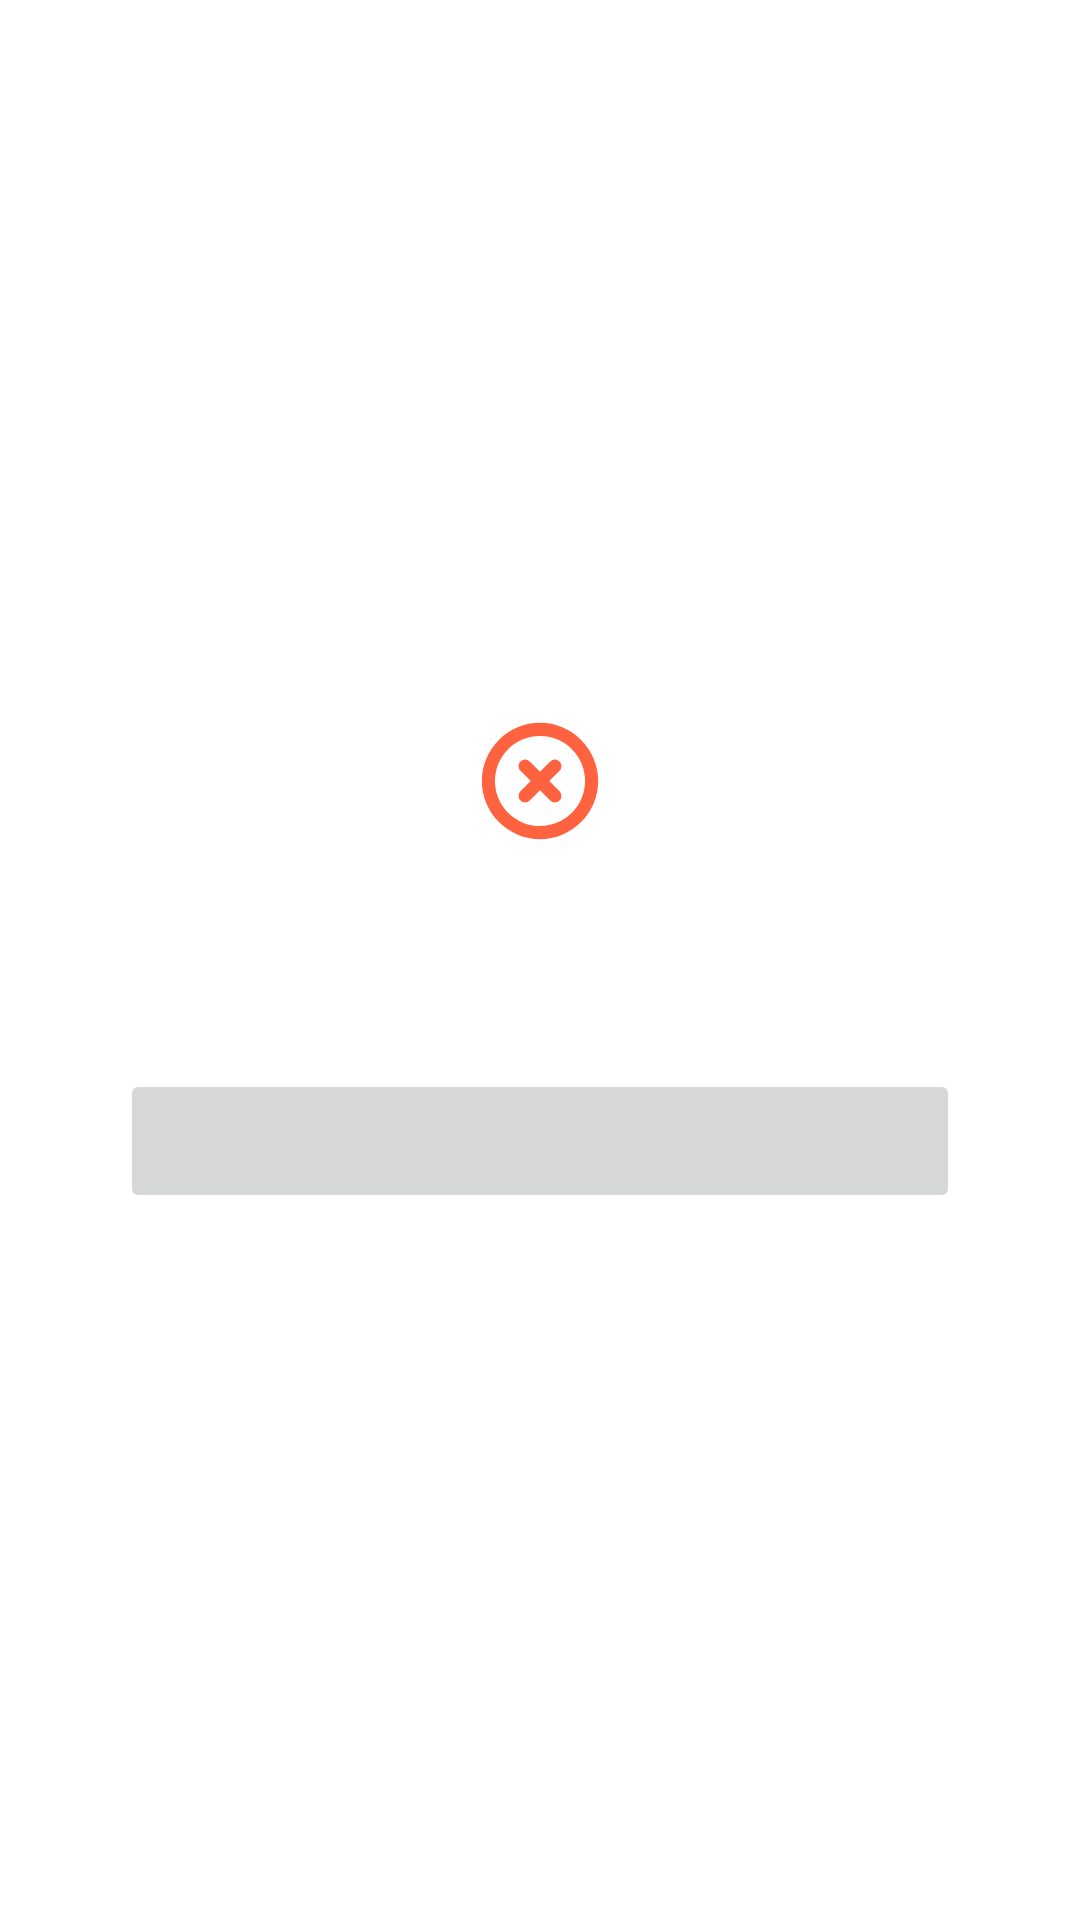

Icons on this 1080px x 1920px Android screen, each with the point to tap as (x=x, y=y):
danger: (x=540, y=781)
